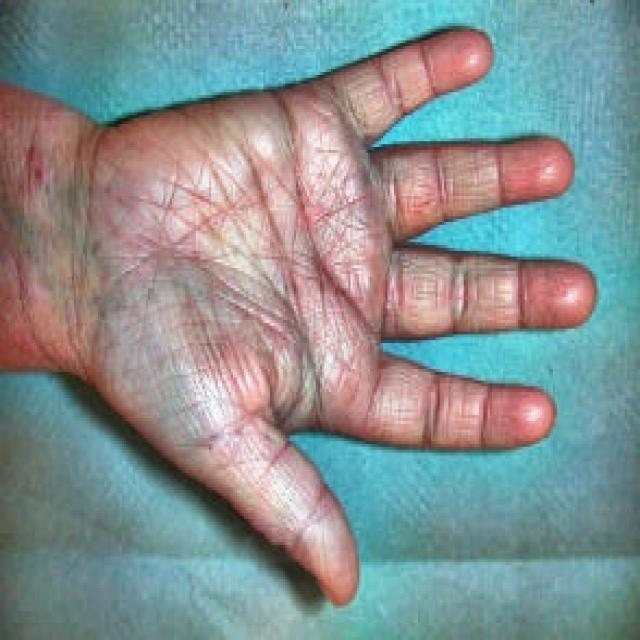Eczema: (18, 126, 265, 364)
